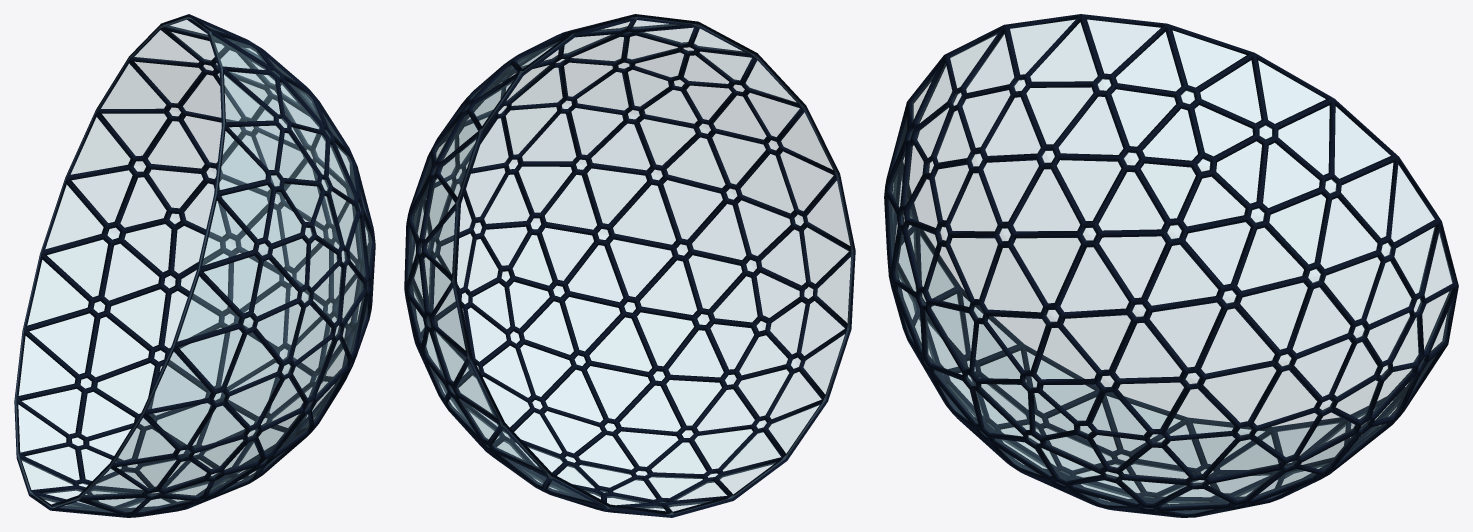
File: invernadero3.fbx
3 views of the same model, side by side, from view 1: azimuth 30°, elevation 25°; view 2: azimuth 150°, elevation 25°; view 3: azimuth 270°, elevation 25° (orthographic). The views are drawn at different scales.
Parts seen in each view (by area): view 1: Icosphere.004, Icosphere.003; view 2: Icosphere.004, Icosphere.003; view 3: Icosphere.004, Icosphere.003.
Boxes of the visible parts, box(x1,y1,x2,y2) form: Icosphere.004: box(15, 17, 371, 512); Icosphere.003: box(14, 14, 375, 517); Icosphere.004: box(408, 17, 853, 514); Icosphere.003: box(404, 14, 855, 517); Icosphere.004: box(889, 20, 1452, 513); Icosphere.003: box(884, 14, 1458, 517).
Size of the model in its own units: 0.5815 by 0.7512 by 0.7616.
